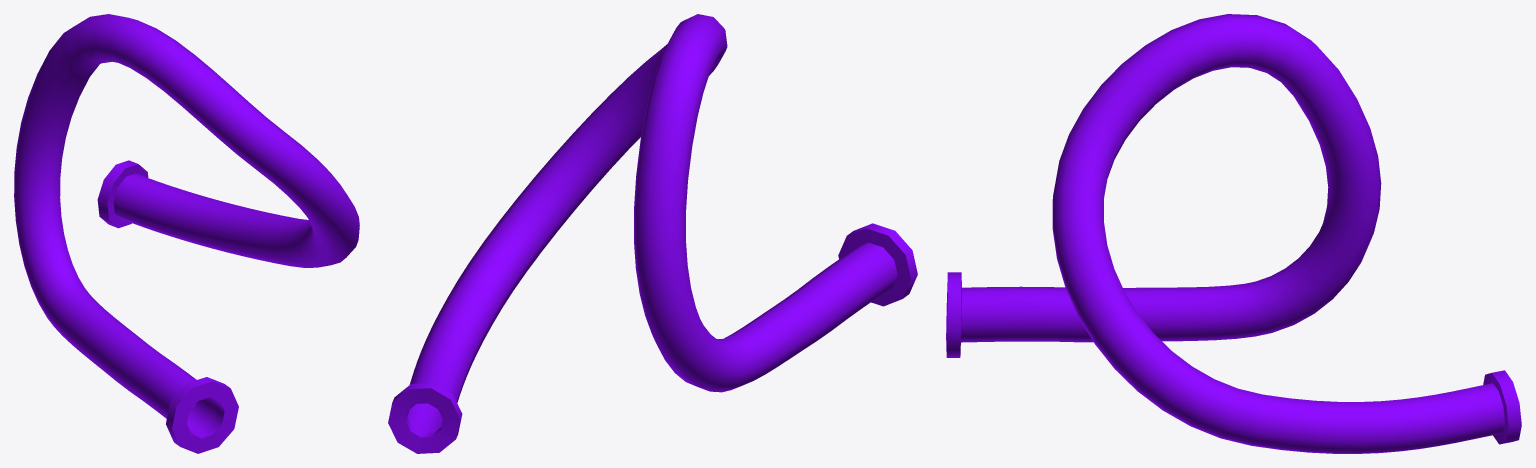
Rendered from Pipe.fbx.
3 renders of one model, left to right at view 1: azimuth 30°, elevation 25°; view 2: azimuth 150°, elevation 25°; view 3: azimuth 270°, elevation 25°, orthographic. The views are drawn at different scales.
Parts seen in each view (by area): view 1: Pipe, BézierCurve.001, BézierCurve.002; view 2: Pipe, BézierCurve.002, BézierCurve.001; view 3: Pipe, BézierCurve.002, BézierCurve.001.
Boxes of the visible parts, box(x1,y1,x2,y2) form: Pipe: box(14, 14, 359, 433); BézierCurve.001: box(166, 377, 238, 453); BézierCurve.002: box(97, 160, 148, 228); Pipe: box(407, 14, 897, 433); BézierCurve.002: box(388, 383, 462, 453); BézierCurve.001: box(838, 223, 917, 306); Pipe: box(961, 14, 1504, 453); BézierCurve.002: box(1483, 370, 1521, 444); BézierCurve.001: box(946, 272, 961, 357).
Size of the model in its own units: 820 by 899 by 1295.
1 material, 1 textured.
